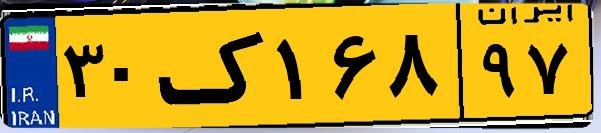0: (110, 28, 158, 98)
1: (270, 28, 330, 110)
3: (57, 26, 110, 100)
6: (330, 28, 385, 110)
7: (525, 38, 570, 115)
8: (385, 28, 445, 110)
9: (475, 38, 525, 113)
ک: (158, 12, 270, 120)
